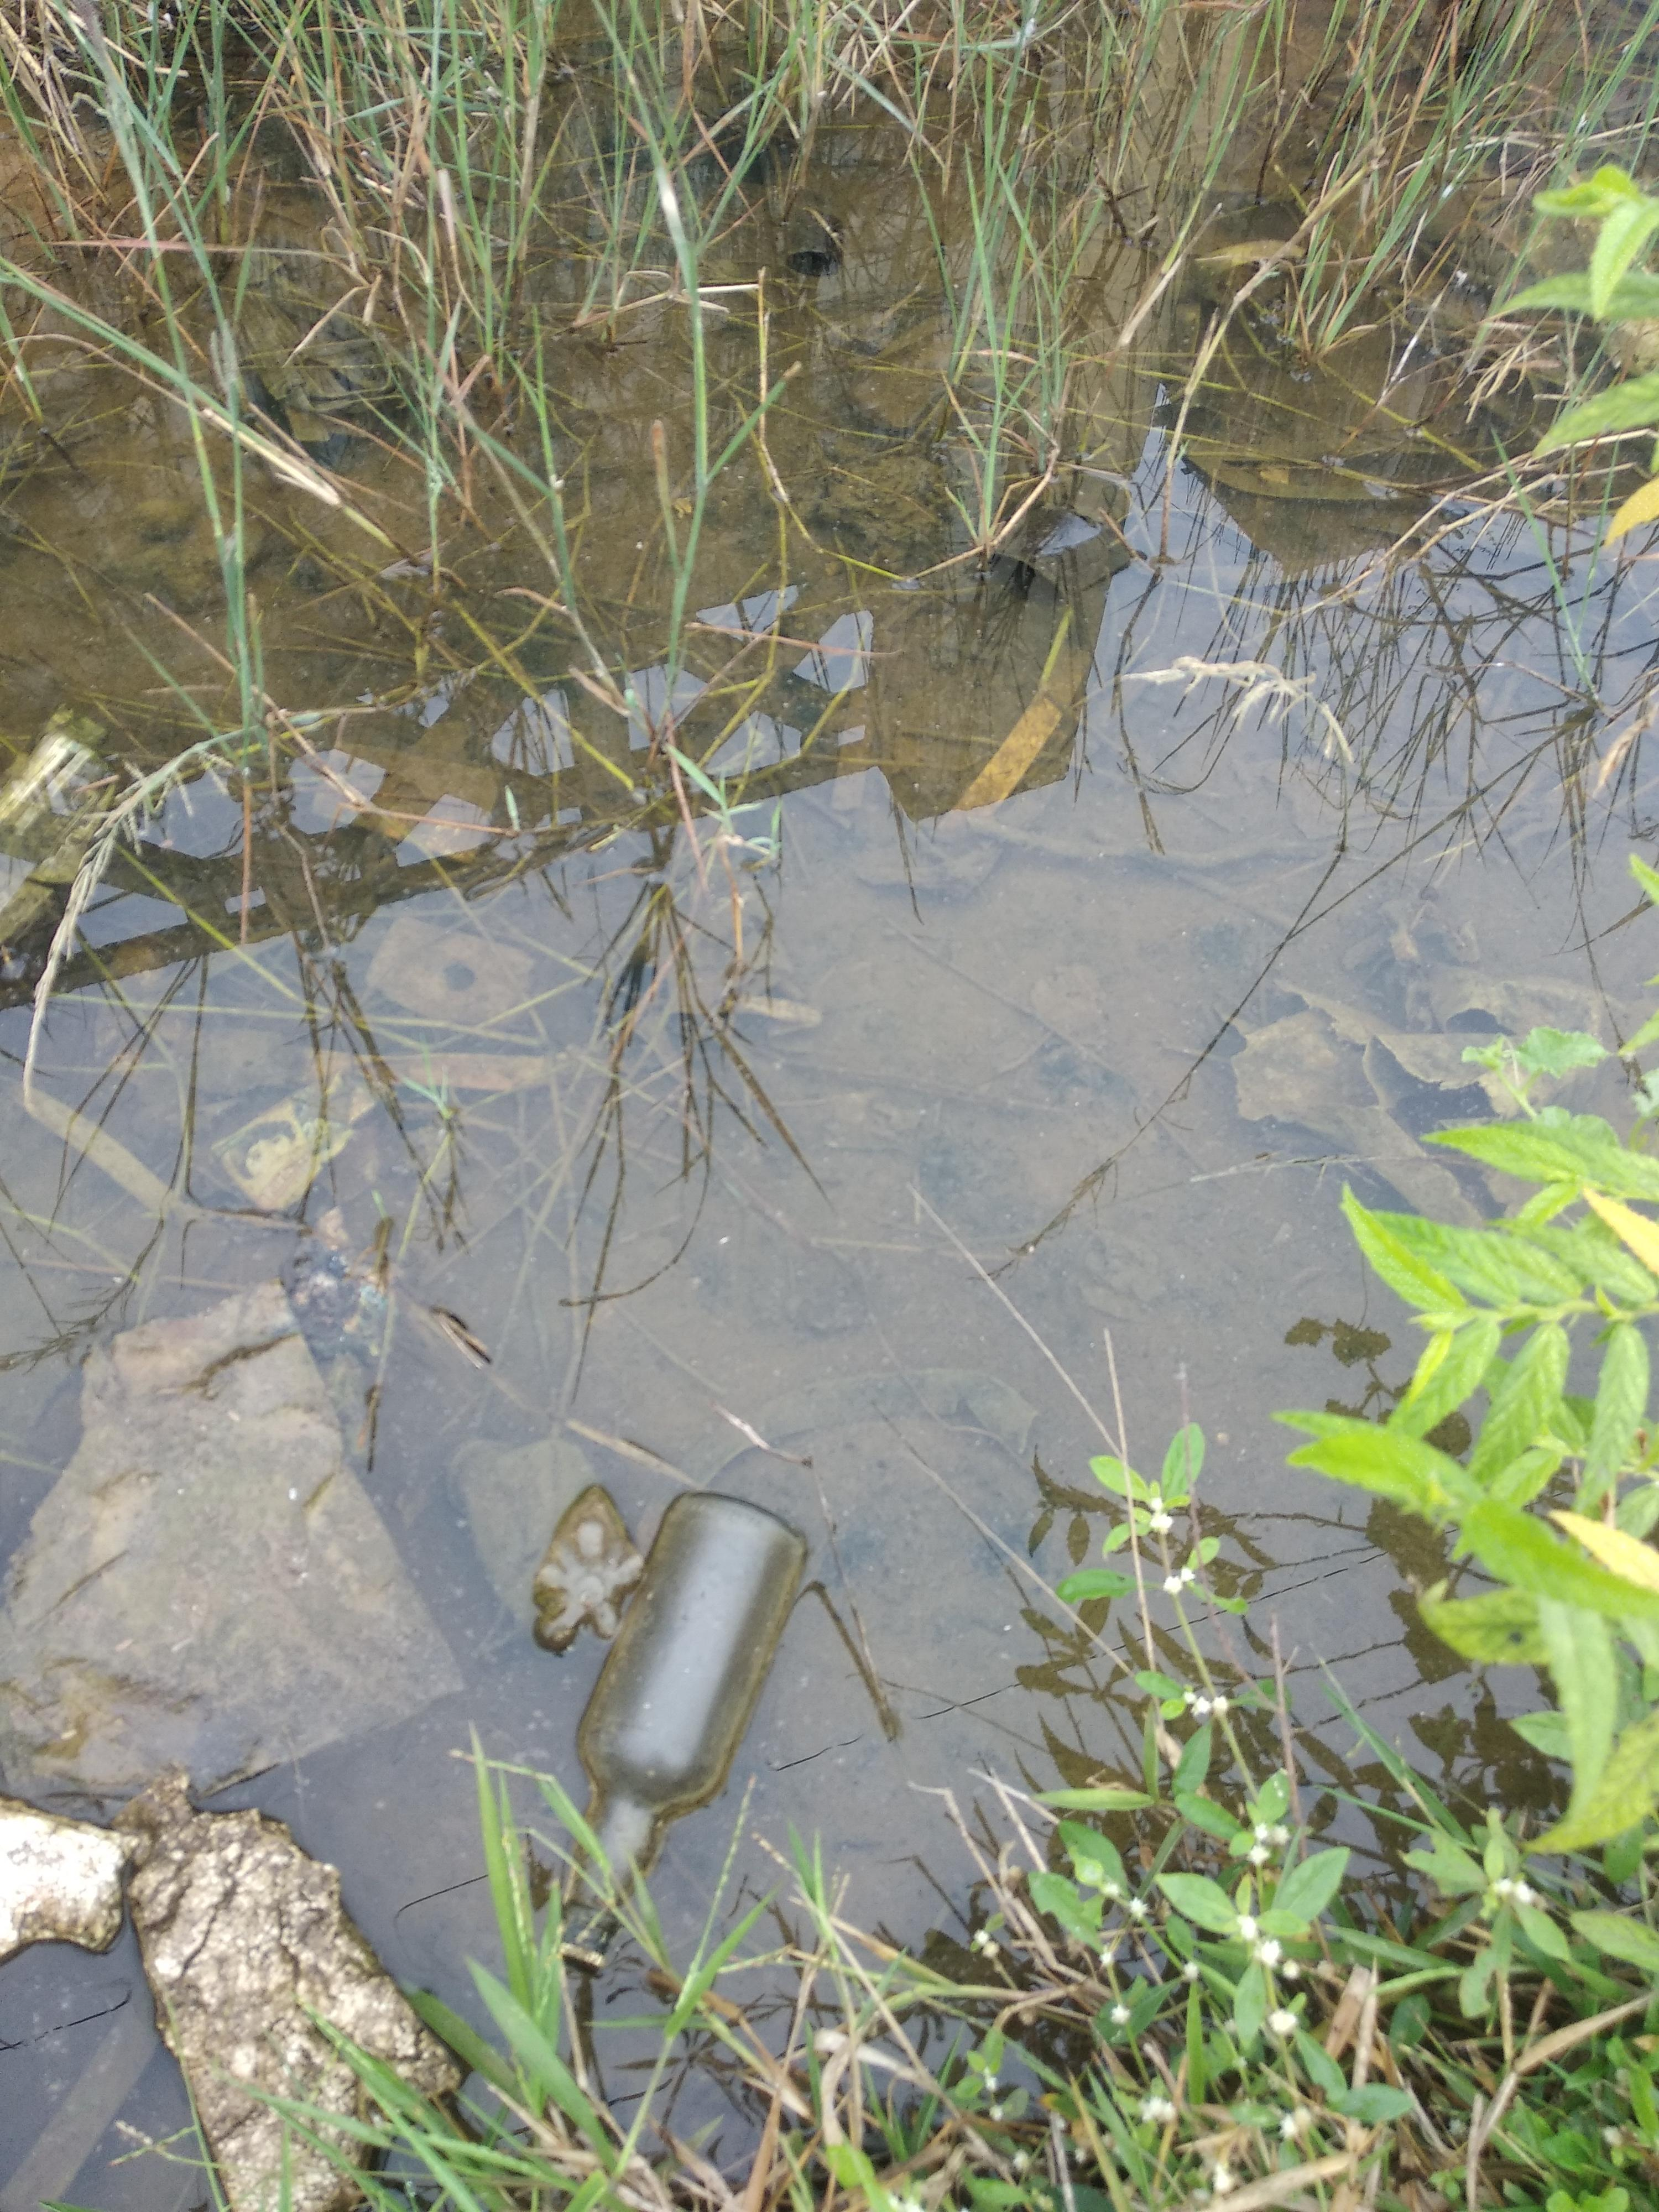trash: (484, 1477, 826, 2001)
